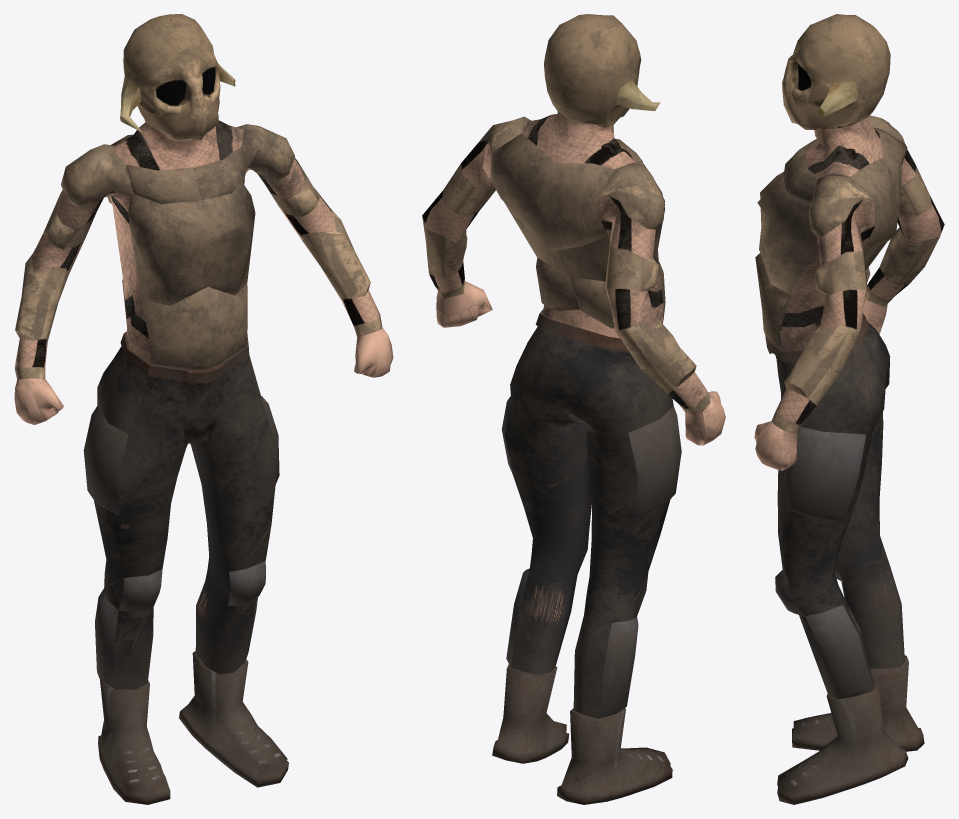
File: Anim_ataque_d1_npc1.0032.obj
3 views of the same model, side by side, from view 1: azimuth 30°, elevation 25°; view 2: azimuth 150°, elevation 25°; view 3: azimuth 270°, elevation 25° (orthographic). The views are drawn at different scales.
Visible parts, largest first — view 1: NPC2; view 2: NPC2; view 3: NPC2.
Part boxes in pixels (x1,y1,x2,y2): NPC2: (14, 14, 393, 804); NPC2: (422, 14, 725, 804); NPC2: (754, 14, 944, 804).
Bounding box in the file's own units: 4.37 × 9.7 × 2.25.
